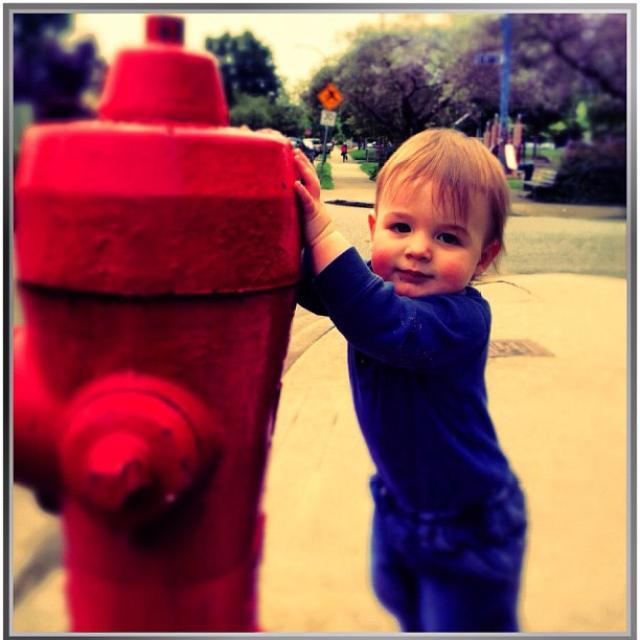fire_hydrant: (8, 18, 304, 632)
